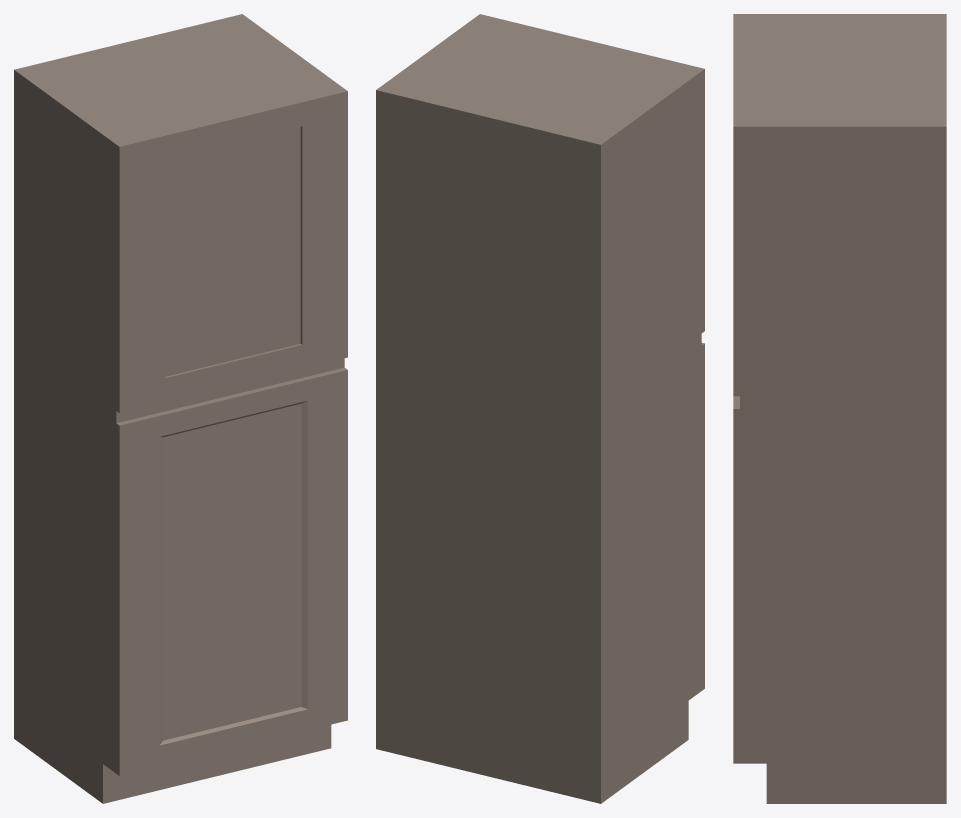
Rendered from Utility-Cabinet-24-Deep_std_001_W30in_2D.glb.
3 views of the same model, side by side, from view 1: azimuth 30°, elevation 25°; view 2: azimuth 150°, elevation 25°; view 3: azimuth 270°, elevation 25° (orthographic). The views are drawn at different scales.
Parts seen in each view (by area): view 1: Utility-Cabinet-24-Deep.std.001_W30in_2D; view 2: Utility-Cabinet-24-Deep.std.001_W30in_2D; view 3: Utility-Cabinet-24-Deep.std.001_W30in_2D.
Part boxes in pixels (x1,y1,x2,y2): Utility-Cabinet-24-Deep.std.001_W30in_2D: (14, 14, 347, 803); Utility-Cabinet-24-Deep.std.001_W30in_2D: (376, 14, 704, 803); Utility-Cabinet-24-Deep.std.001_W30in_2D: (733, 14, 946, 803).
Bounding box in the file's own units: 0.762 × 2.13 × 0.6096.
